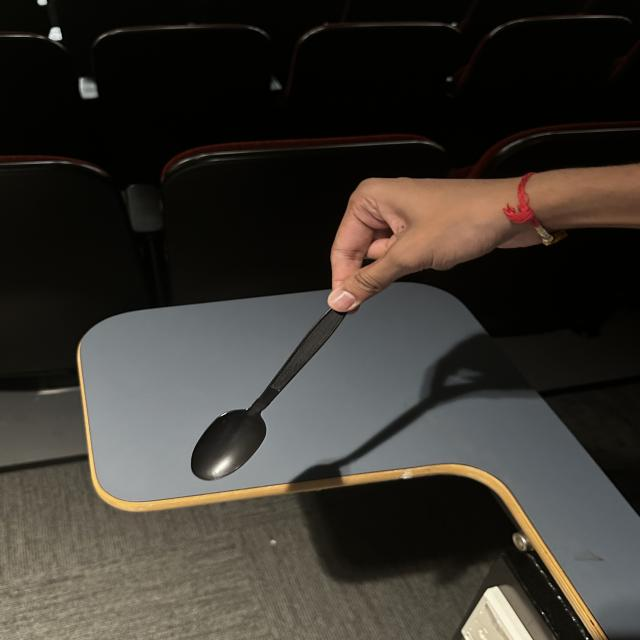spoon: (147, 273, 396, 509)
